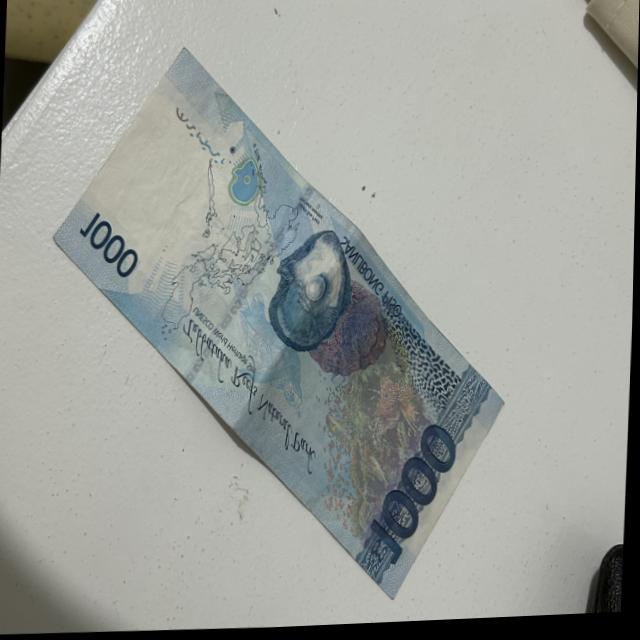1000_pearl: (270, 234, 350, 355)
1000_pearl_watermark: (227, 153, 267, 209)
value_watermark: (138, 110, 179, 164)
watermark: (115, 125, 213, 253)
